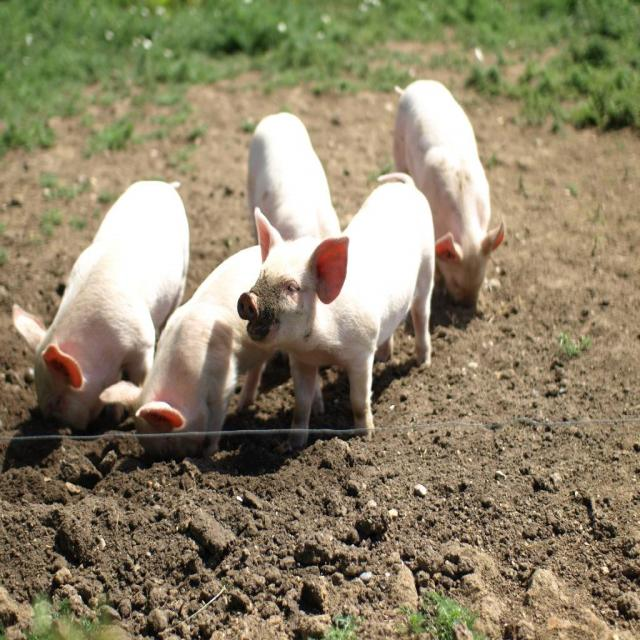Pig: (11, 80, 506, 464)
